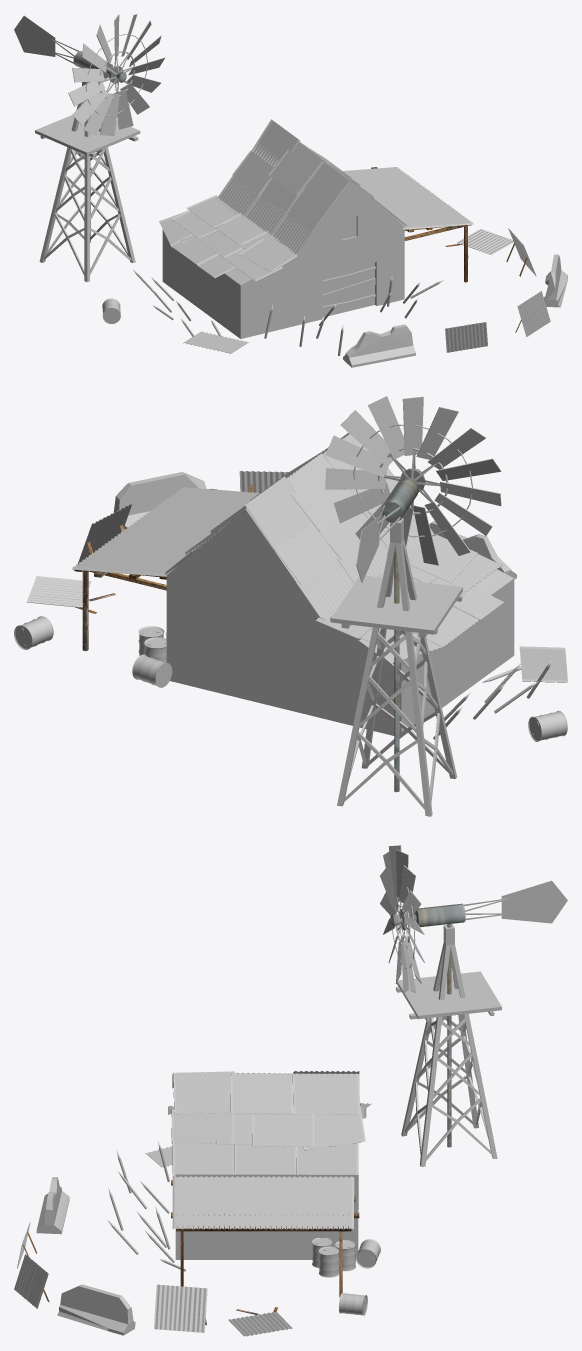
Rendered from MH_barn-block_00.fbx.
The picture shows the model from 3 angles, top to bottom: view 1: azimuth 30°, elevation 25°; view 2: azimuth 150°, elevation 25°; view 3: azimuth 270°, elevation 25°; orthographic projection. The views are drawn at different scales.
Parts seen in each view (by area): view 1: fienile1, polySurface89, polySurface153, polySurface62, pali_appuntiti1, polySurface74, polySurface73, polySurface63, polySurface3; view 2: fienile1, polySurface89, polySurface153, polySurface63, polySurface3, polySurface4, pali_appuntiti1, barile9, barile10, barile11, polySurface62, polySurface73; view 3: fienile1, polySurface89, polySurface153, polySurface63, polySurface4, polySurface62, pali_appuntiti1, polySurface73, polySurface3, barile7.
Boxes of the visible parts, bbox=[...] form: fienile1: bbox=[159, 119, 473, 353]; polySurface89: bbox=[14, 15, 140, 282]; polySurface153: bbox=[68, 14, 165, 135]; polySurface62: bbox=[343, 324, 415, 367]; pali_appuntiti1: bbox=[133, 270, 444, 355]; polySurface74: bbox=[445, 322, 487, 352]; polySurface73: bbox=[517, 291, 550, 336]; polySurface63: bbox=[544, 254, 567, 307]; polySurface3: bbox=[456, 229, 513, 254]; fienile1: bbox=[72, 433, 567, 735]; polySurface89: bbox=[330, 468, 462, 816]; polySurface153: bbox=[325, 396, 501, 565]; polySurface63: bbox=[113, 472, 206, 529]; polySurface3: bbox=[26, 576, 91, 607]; polySurface4: bbox=[78, 503, 132, 564]; pali_appuntiti1: bbox=[433, 660, 552, 739]; barile9: bbox=[132, 654, 172, 687]; barile10: bbox=[14, 616, 53, 649]; barile11: bbox=[528, 710, 567, 741]; polySurface62: bbox=[429, 520, 516, 579]; polySurface73: bbox=[239, 470, 288, 492]; fienile1: bbox=[145, 1070, 372, 1297]; polySurface89: bbox=[389, 880, 567, 1166]; polySurface153: bbox=[380, 845, 424, 993]; polySurface63: bbox=[57, 1284, 135, 1335]; polySurface4: bbox=[154, 1284, 207, 1332]; polySurface62: bbox=[36, 1177, 69, 1234]; pali_appuntiti1: bbox=[107, 1141, 185, 1271]; polySurface73: bbox=[14, 1254, 48, 1308]; polySurface3: bbox=[228, 1312, 292, 1336]; barile7: bbox=[318, 1246, 339, 1277].
Size of the model in its own units: 27.54 by 18.46 by 28.94.
